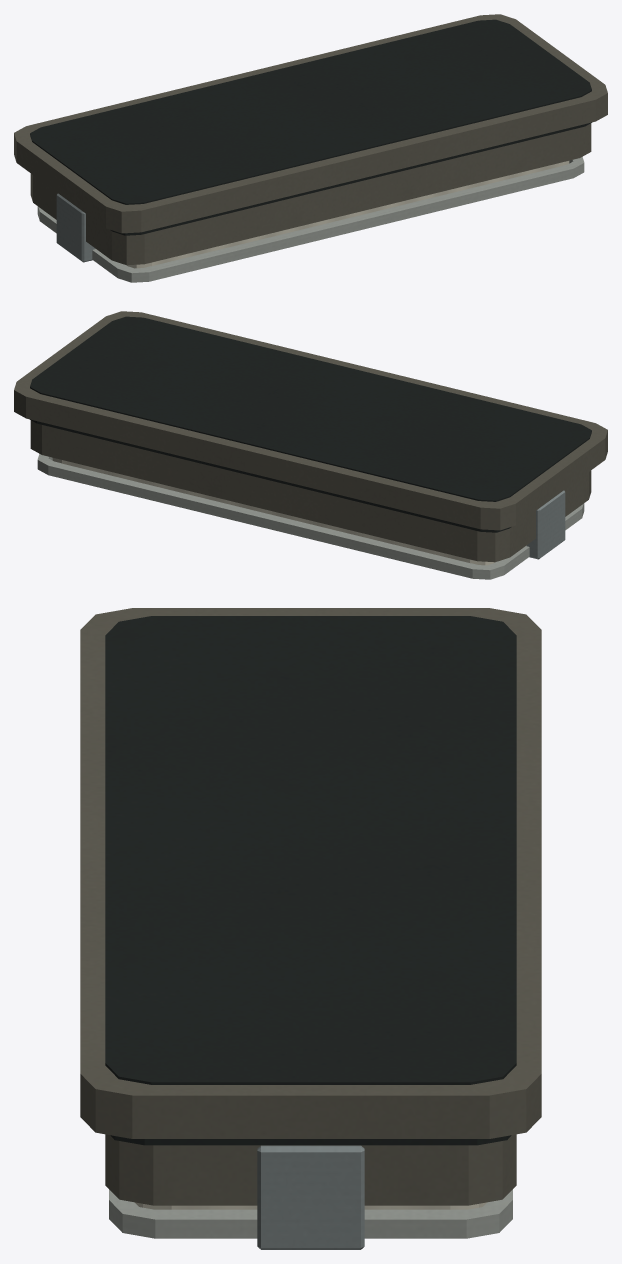
File: SM_Exterior_Canopy_LOD2.fbx
3 views of the same model, one above another, from view 1: azimuth 30°, elevation 25°; view 2: azimuth 150°, elevation 25°; view 3: azimuth 270°, elevation 25° (orthographic). The views are drawn at different scales.
Visible parts, largest first — view 1: SM_Exterior_Canopy_LOD2; view 2: SM_Exterior_Canopy_LOD2; view 3: SM_Exterior_Canopy_LOD2.
Boxes of the visible parts, x1,y1,x2,y2 form: SM_Exterior_Canopy_LOD2: (14, 14, 607, 282); SM_Exterior_Canopy_LOD2: (14, 311, 607, 579); SM_Exterior_Canopy_LOD2: (80, 608, 541, 1249).
Bounding box in the file's own units: 0.6 × 0.24 × 0.0955.
